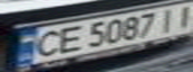0: (103, 17, 127, 44)
5: (84, 19, 109, 48)
7: (136, 10, 163, 37)
8: (121, 13, 145, 42)
C: (27, 27, 66, 58)
E: (51, 22, 87, 55)
I: (154, 6, 184, 31), (169, 2, 193, 29)
